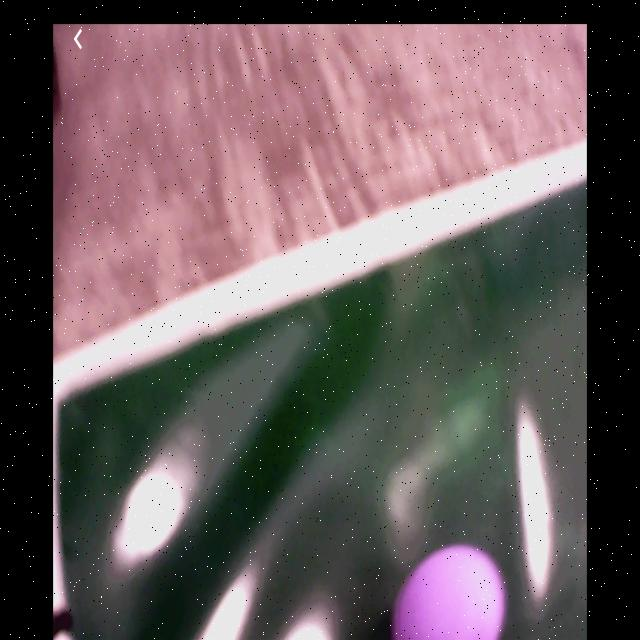ball: (396, 546, 508, 640)
